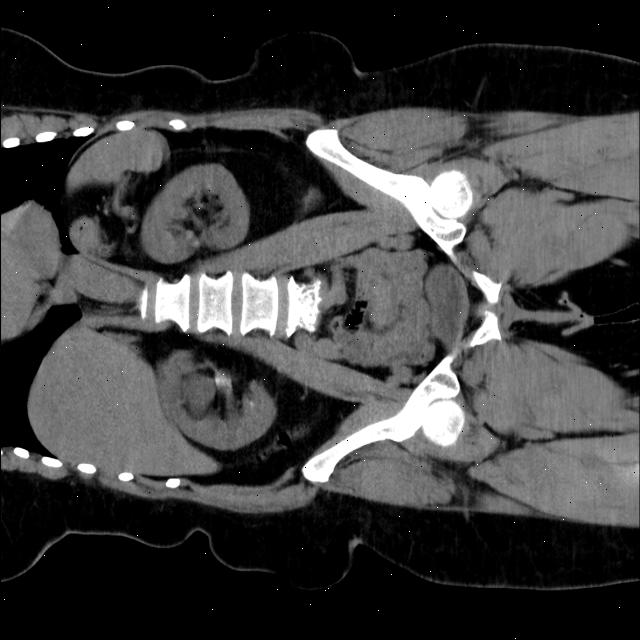kidneystone: (205, 368, 216, 392)
